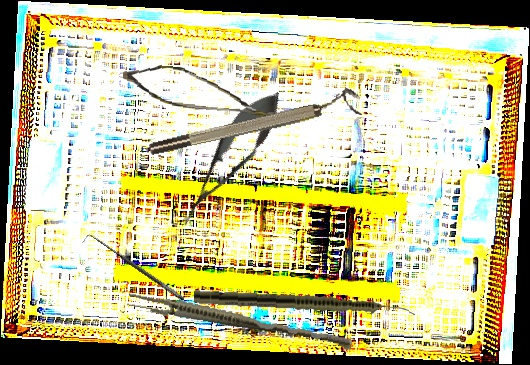Fixation Ring: (145, 85, 364, 160)
Handpiece: (193, 289, 416, 318)
Hook Surgical: (82, 230, 186, 309)
Micro Scissor: (167, 80, 293, 236), (120, 62, 282, 122)
Tissue Forceps: (125, 291, 355, 351)
